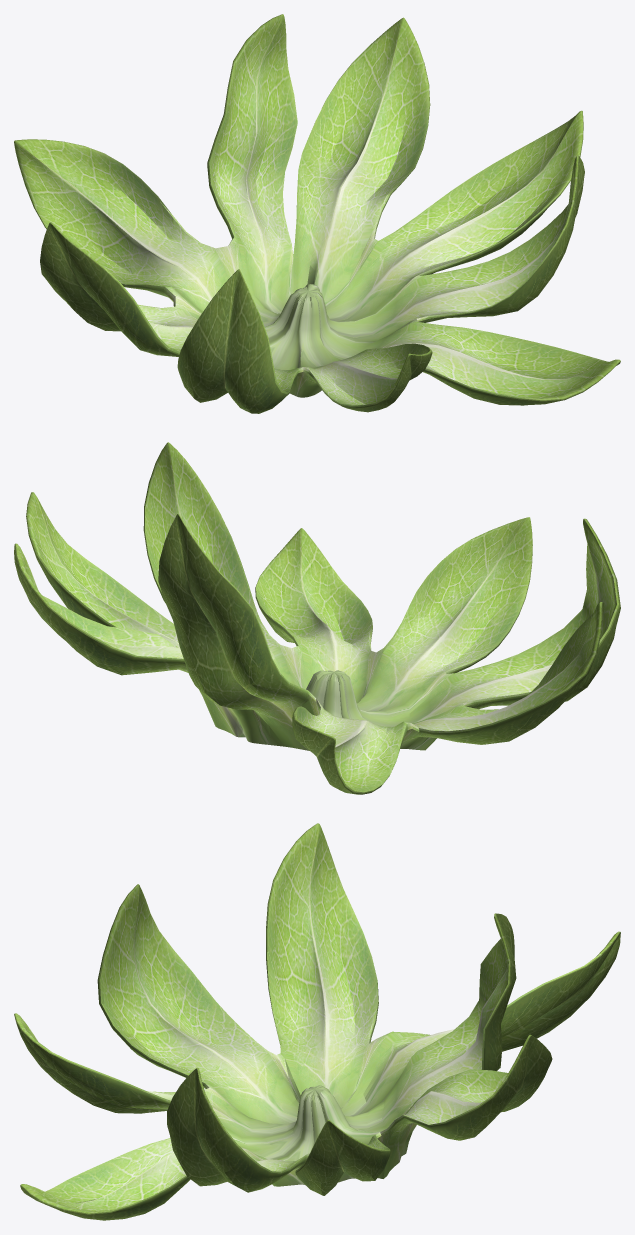
File: leaves.obj
3 views of the same model, one above another, from view 1: azimuth 30°, elevation 25°; view 2: azimuth 150°, elevation 25°; view 3: azimuth 270°, elevation 25° (orthographic). The views are drawn at different scales.
Visible parts, largest first — view 1: obj2.1565, obj2.1566; view 2: obj2.1565, obj2.1566; view 3: obj2.1565, obj2.1566.
Part boxes in pixels (x1=…): obj2.1565: x1=14, y1=14, x2=620, y2=407; obj2.1566: x1=34, y1=14, x2=620, y2=413; obj2.1565: x1=15, y1=442, x2=618, y2=793; obj2.1566: x1=14, y1=443, x2=620, y2=794; obj2.1565: x1=15, y1=823, x2=619, y2=1213; obj2.1566: x1=14, y1=824, x2=620, y2=1220.
Bounding box in the file's own units: 0.282 × 0.1354 × 0.2625.
Materials: 1 (1 with a texture image).
